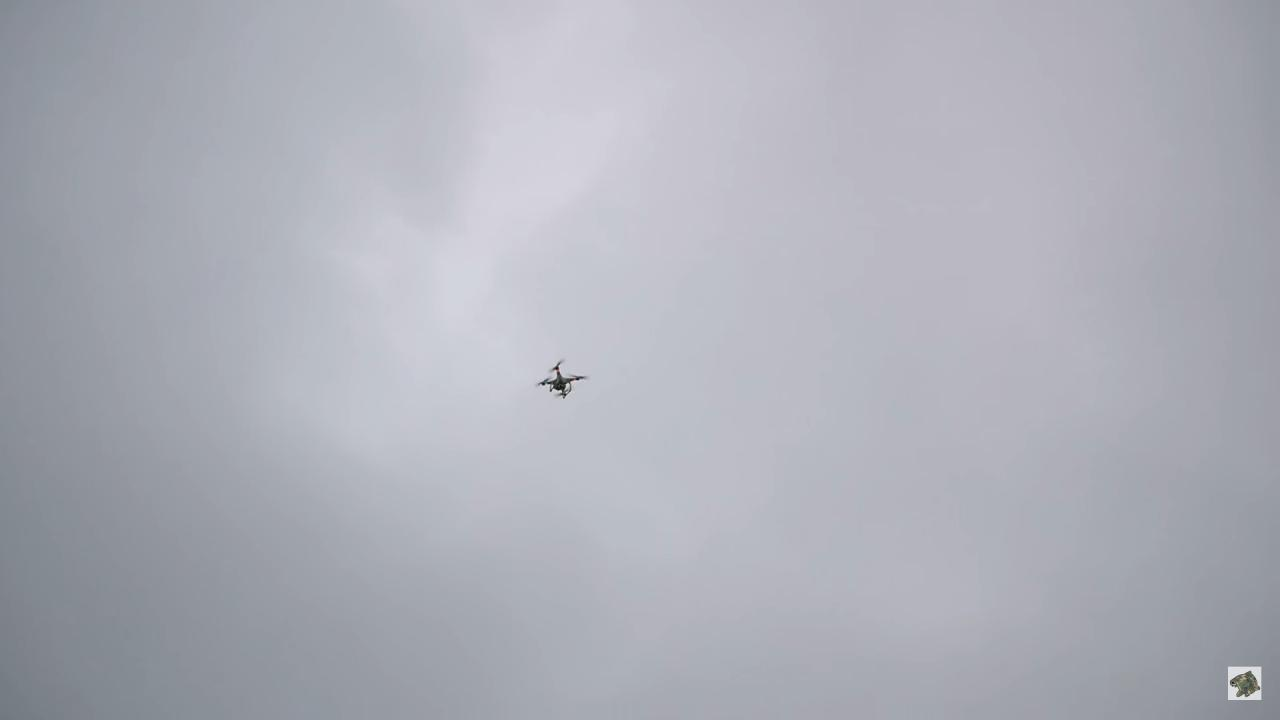Drone: (528, 352, 593, 409)
